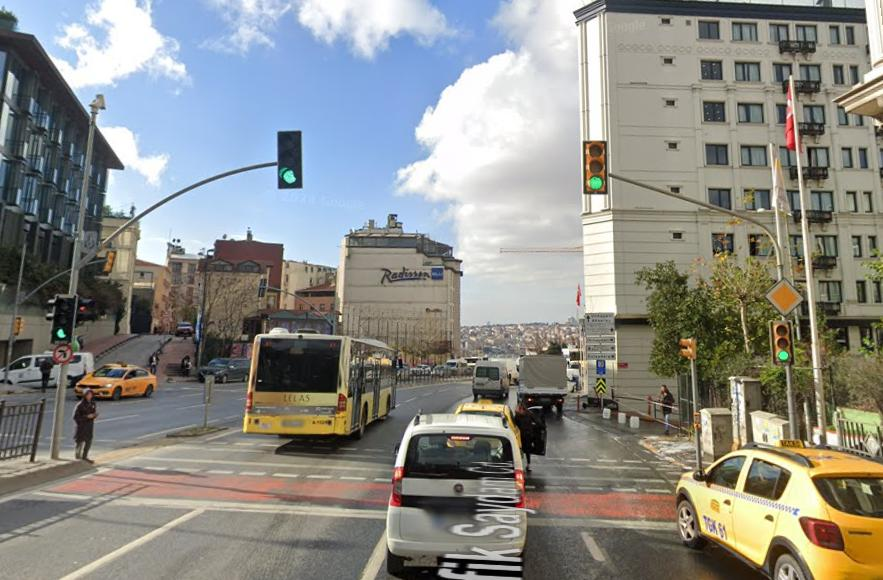greenlight: (581, 140, 610, 195), (278, 129, 303, 190), (49, 295, 71, 343), (772, 320, 794, 365)
leftturnsareforbidden: (54, 345, 72, 365)
